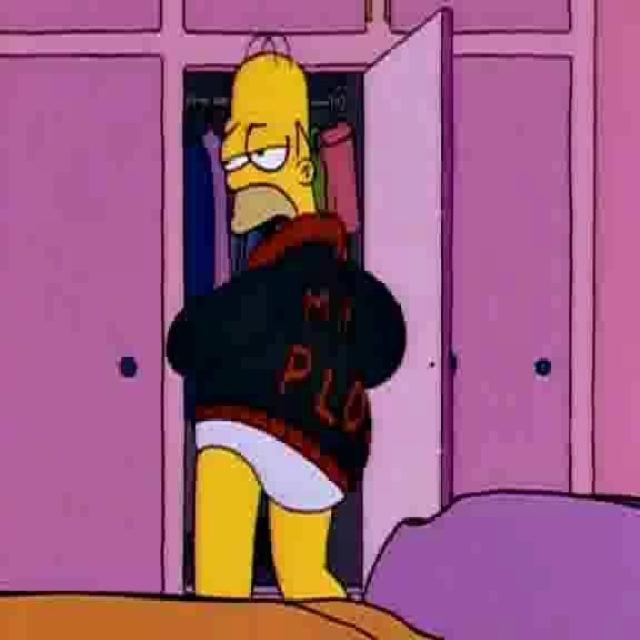Homer Simpson: (217, 39, 321, 238)
